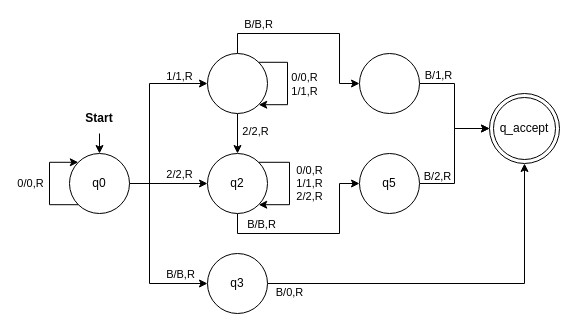
Image size: 577x331. Some labels were removed from this diagram. The box of each missing label's shape, as (x1, y1, x2, y2) in pixels:
q1: (206, 52, 268, 114)
q4: (358, 52, 420, 114)
